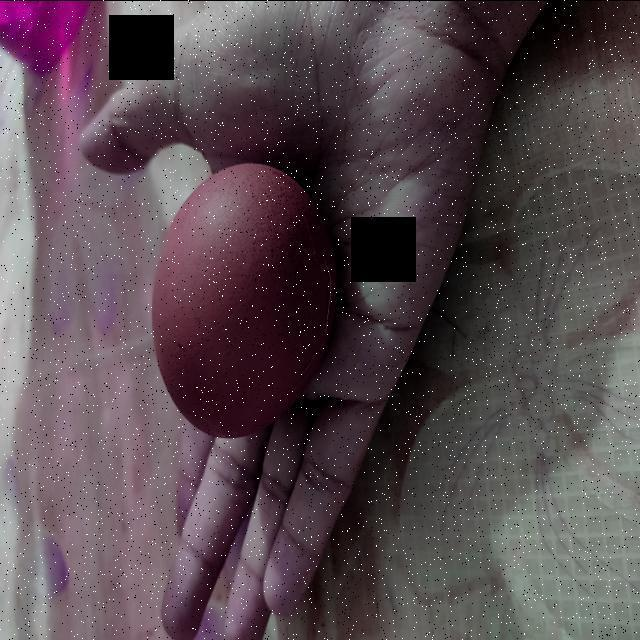egg: (144, 161, 342, 447)
